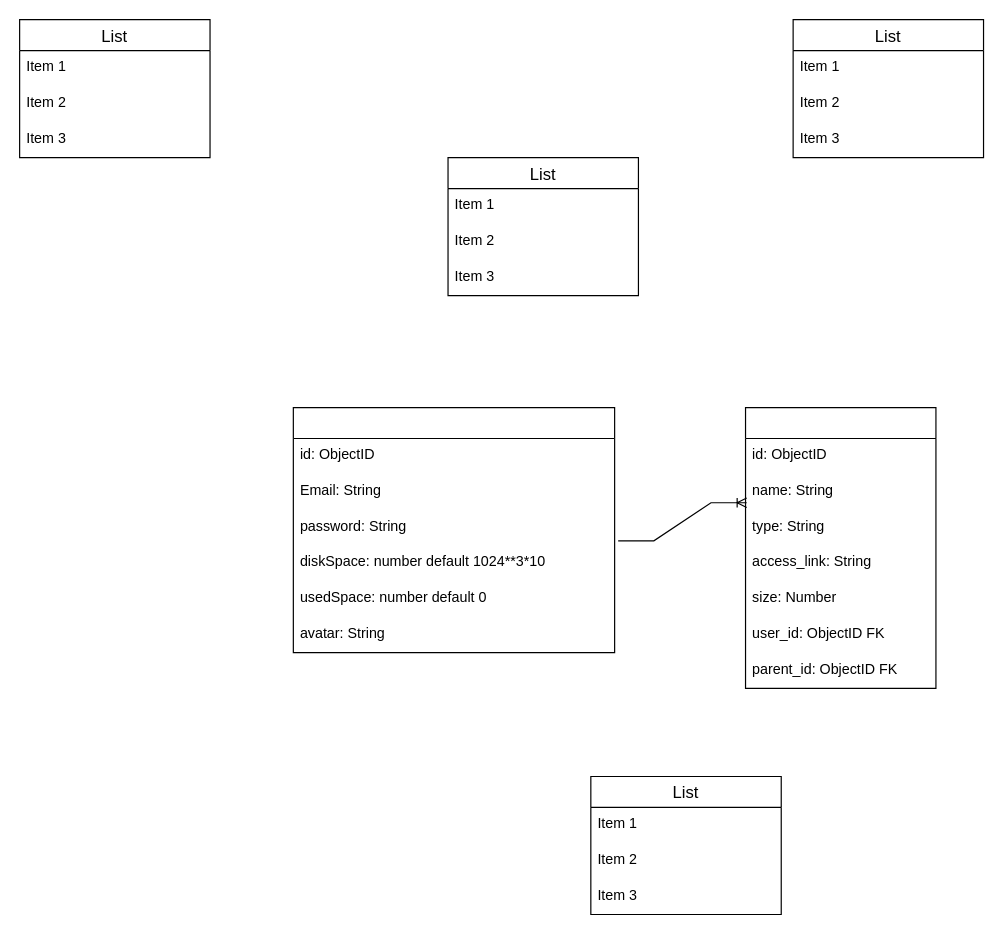
Image size: 1003x934. Some labels were removed from this diagram. Here are the shapes that lost their labels. From the top down, the box of each, then its label:
(292, 406, 615, 653): User
(744, 406, 936, 688): Files
